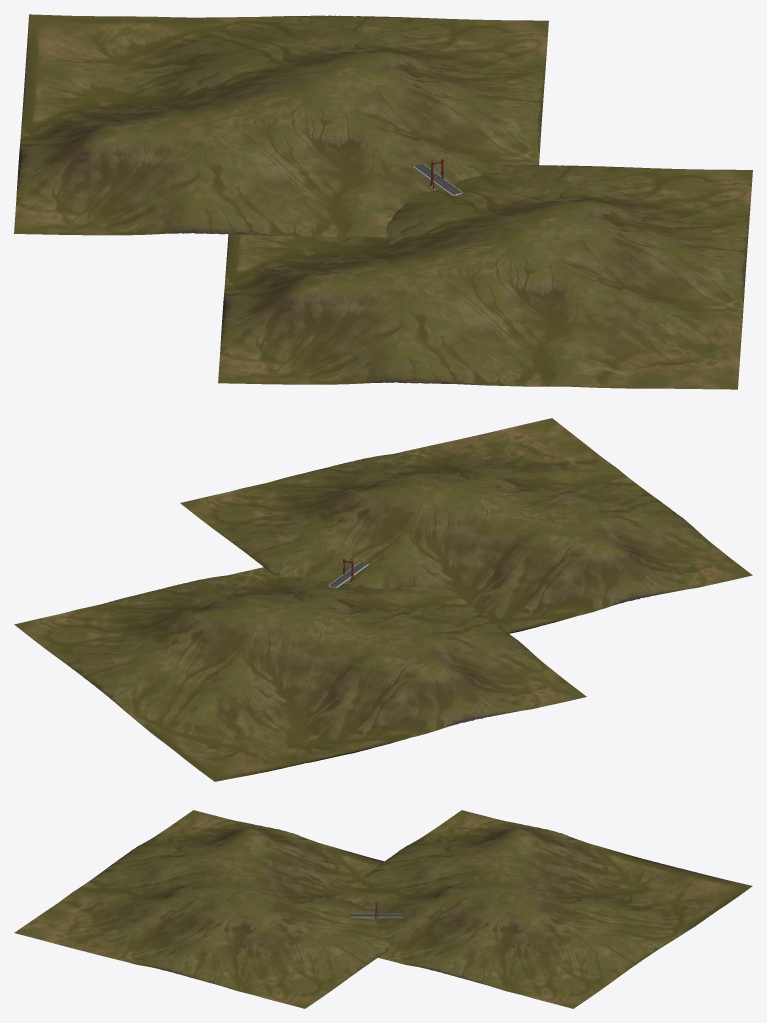
File: TeachingPlatformSinglePylonCableStayedModel.gltf
The picture shows the model from 3 angles, top to bottom: view 1: azimuth 30°, elevation 25°; view 2: azimuth 150°, elevation 25°; view 3: azimuth 270°, elevation 25°; orthographic projection. The views are drawn at different scales.
Parts seen in each view (by area): view 1: Mountain2, Mountain1; view 2: Mountain2, Mountain1; view 3: Mountain2, Mountain1.
Part boxes in pixels (box(x1,y1,x2,y2)): Mountain2: box(14, 14, 548, 237); Mountain1: box(218, 165, 752, 389); Mountain2: box(14, 567, 586, 781); Mountain1: box(180, 418, 752, 633); Mountain2: box(333, 810, 752, 1008); Mountain1: box(14, 810, 389, 1008).
Bounding box in the file's own units: 1408 × 129 × 2210.
8 materials, 8 textured.
